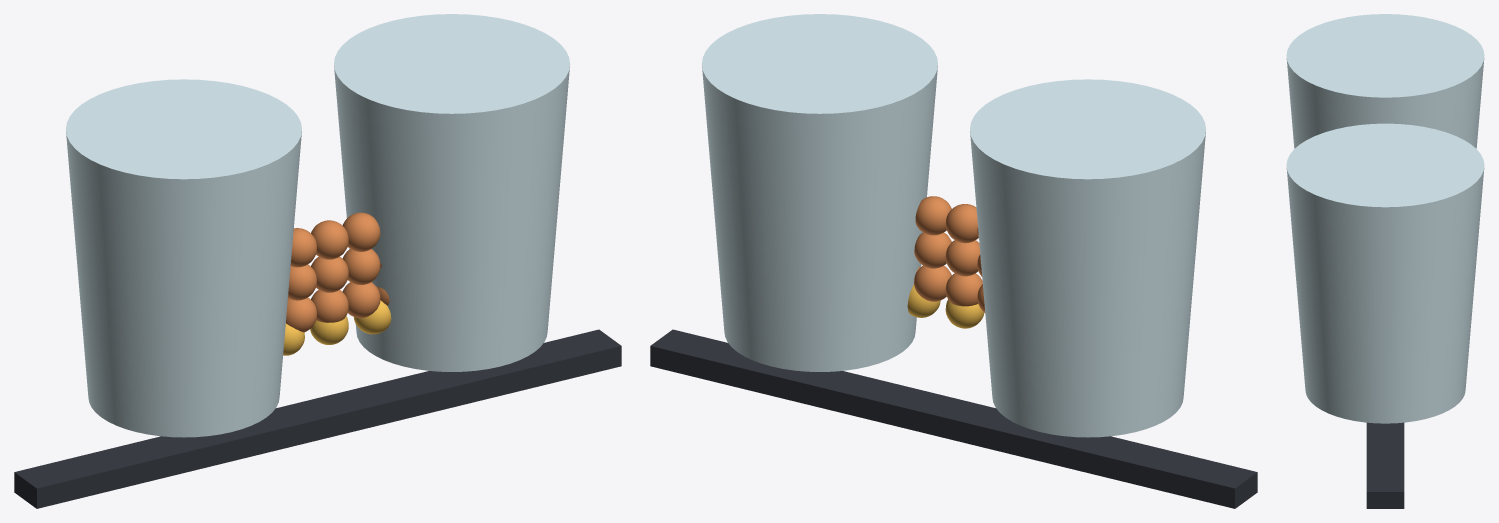
Rendered from chem-solutions-concentration.glb.
The picture shows the model from 3 angles, left to right: view 1: azimuth 30°, elevation 25°; view 2: azimuth 150°, elevation 25°; view 3: azimuth 270°, elevation 25°; orthographic projection. The views are drawn at different scales.
Parts seen in each view (by area): view 1: dilute-low-concentration-glass, concentrated-high-concentration-glass, solutions-lab-bench, many-solute-particles-particle-13, many-solute-particles-particle-12, many-solute-particles-particle-8, many-solute-particles-particle-7, many-solute-particles-particle-3, many-solute-particles-particle-2, many-solute-particles-particle-1, many-solute-particles-particle-6, many-solute-particles-particle-11 (+2 smaller); view 2: dilute-low-concentration-glass, concentrated-high-concentration-glass, solutions-lab-bench, many-solute-particles-particle-13, many-solute-particles-particle-12, many-solute-particles-particle-8, many-solute-particles-particle-3, many-solute-particles-particle-7, many-solute-particles-particle-2, few-solute-particles-particle-2; view 3: concentrated-high-concentration-glass, dilute-low-concentration-glass, solutions-lab-bench.
Boxes of the visible parts, x1,y1,x2,y2 form: dilute-low-concentration-glass: (66, 79, 301, 437); concentrated-high-concentration-glass: (334, 14, 569, 371); solutions-lab-bench: (14, 329, 621, 508); many-solute-particles-particle-13: (342, 212, 380, 251); many-solute-particles-particle-12: (311, 220, 348, 259); many-solute-particles-particle-8: (342, 249, 380, 284); many-solute-particles-particle-7: (311, 256, 348, 292); many-solute-particles-particle-3: (342, 282, 380, 318); many-solute-particles-particle-2: (311, 289, 348, 322); many-solute-particles-particle-1: (286, 297, 316, 332); many-solute-particles-particle-6: (288, 264, 316, 300); many-solute-particles-particle-11: (290, 228, 316, 267); dilute-low-concentration-glass: (970, 79, 1205, 437); concentrated-high-concentration-glass: (702, 14, 937, 371); solutions-lab-bench: (650, 329, 1257, 508); many-solute-particles-particle-13: (915, 196, 951, 235); many-solute-particles-particle-12: (945, 204, 978, 243); many-solute-particles-particle-8: (914, 232, 951, 268); many-solute-particles-particle-3: (914, 265, 951, 301); many-solute-particles-particle-7: (945, 240, 980, 276); many-solute-particles-particle-2: (945, 273, 982, 306); few-solute-particles-particle-2: (945, 299, 984, 328); concentrated-high-concentration-glass: (1286, 123, 1484, 423); dilute-low-concentration-glass: (1286, 14, 1484, 148); solutions-lab-bench: (1366, 422, 1404, 508).
Size of what is drawn, in the model's own units: 2.4 by 1.3 by 0.84.
